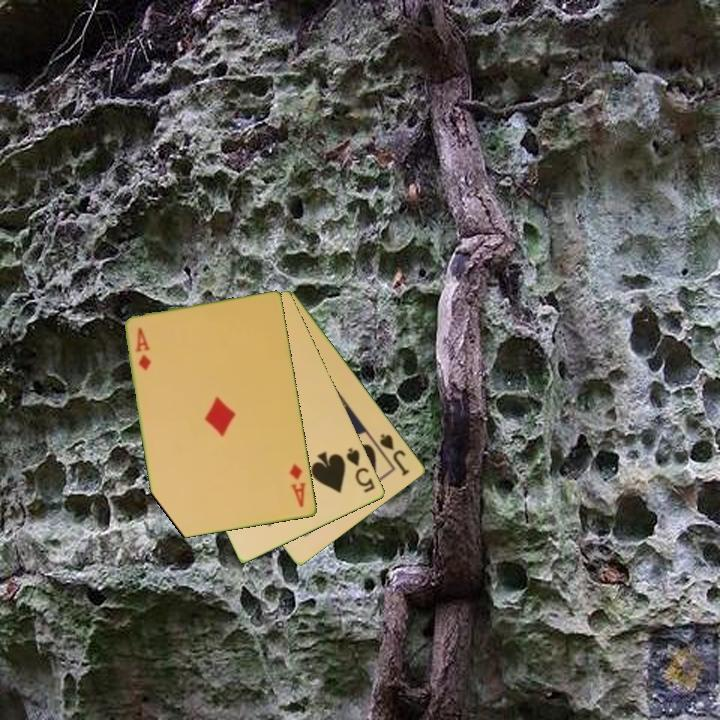5s: (343, 444, 378, 496)
Ad: (286, 460, 309, 510), (132, 324, 155, 374)
Js: (376, 430, 413, 479)
